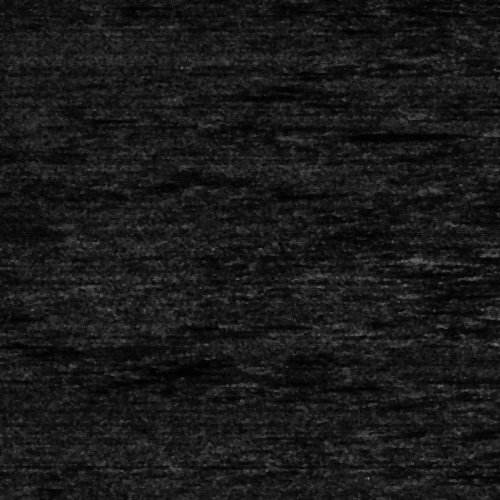object: (393, 251, 486, 266), (312, 268, 405, 275), (279, 132, 352, 137), (479, 382, 500, 391)
shadow: (439, 251, 500, 266), (359, 268, 448, 275), (316, 132, 421, 137)
